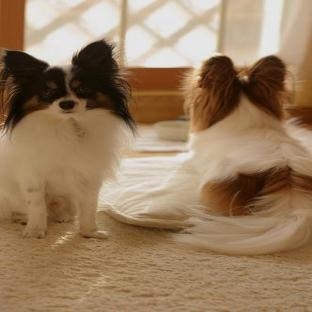Animal: (151, 56, 311, 254), (0, 40, 134, 237)
